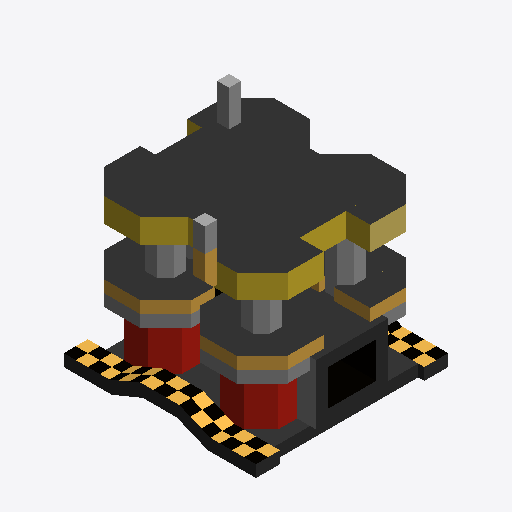
Isometric view (azimuth 45°, elevation 35.3°) of a Minecraft model made of 114 cuboids, textured from the same repository.
Parts seen in each view (by area): element 103, element 49, element 2, element 48, element 83, element 35, element 38, element 30, element 45, element 96, element 100, element 31 (+28 smaller).
Part boxes in pixels (x1,y1,x2,y2): element 103: (118, 109, 380, 258); element 49: (186, 257, 387, 373); element 2: (106, 339, 417, 456); element 48: (297, 360, 387, 428); element 83: (346, 199, 405, 251); element 35: (200, 314, 271, 383); element 38: (334, 273, 405, 324); element 30: (104, 259, 175, 327); element 45: (208, 424, 279, 477); element 96: (237, 245, 287, 299); element 100: (104, 182, 163, 243); element 31: (140, 286, 190, 327).
Size of the model in its own units: 16 by 16 by 16.